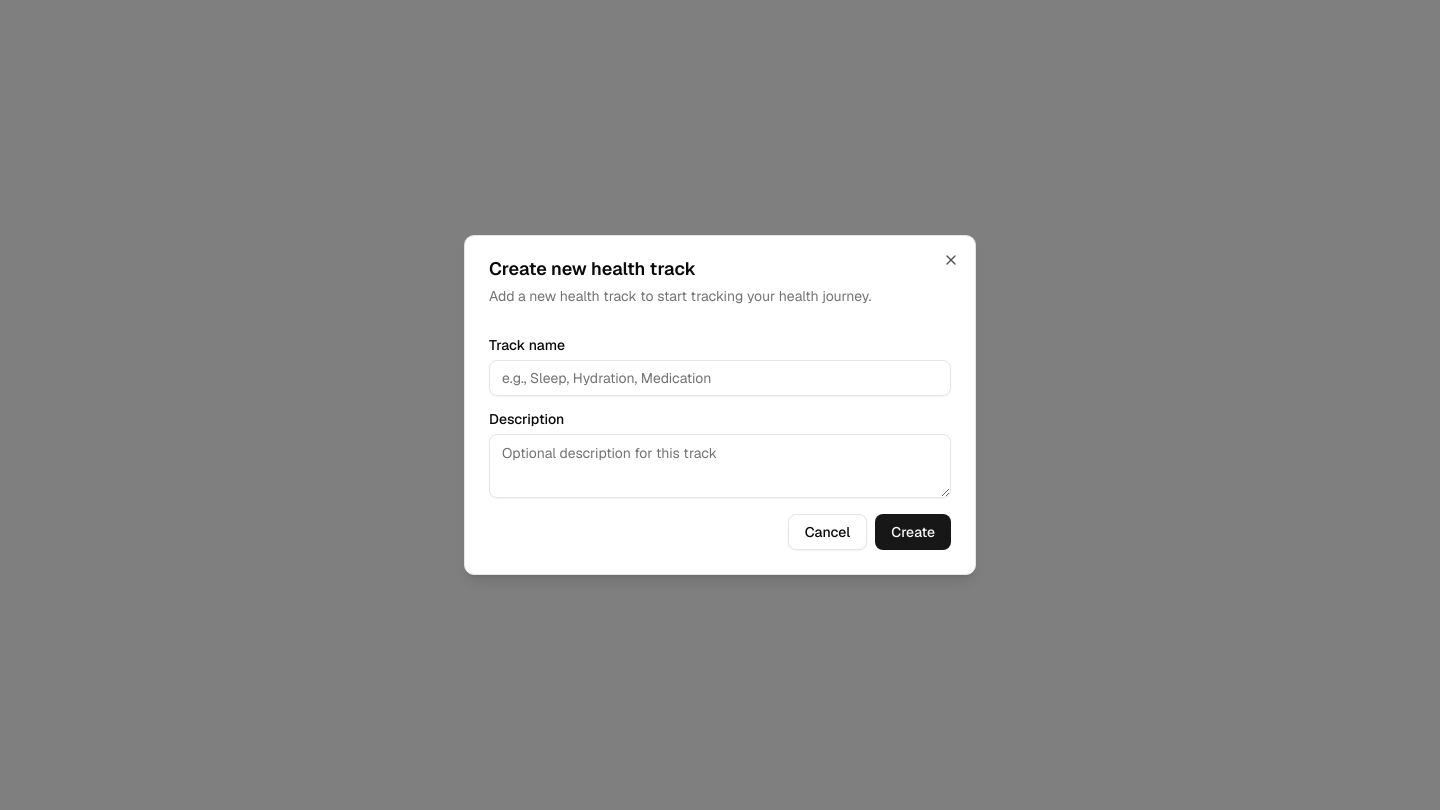
Scenario: TrackCreateDialog › displays error message on API failure
Type "Sleep Tracker" into the field labelled "Track name" at [720, 378], box [489, 360, 951, 396]
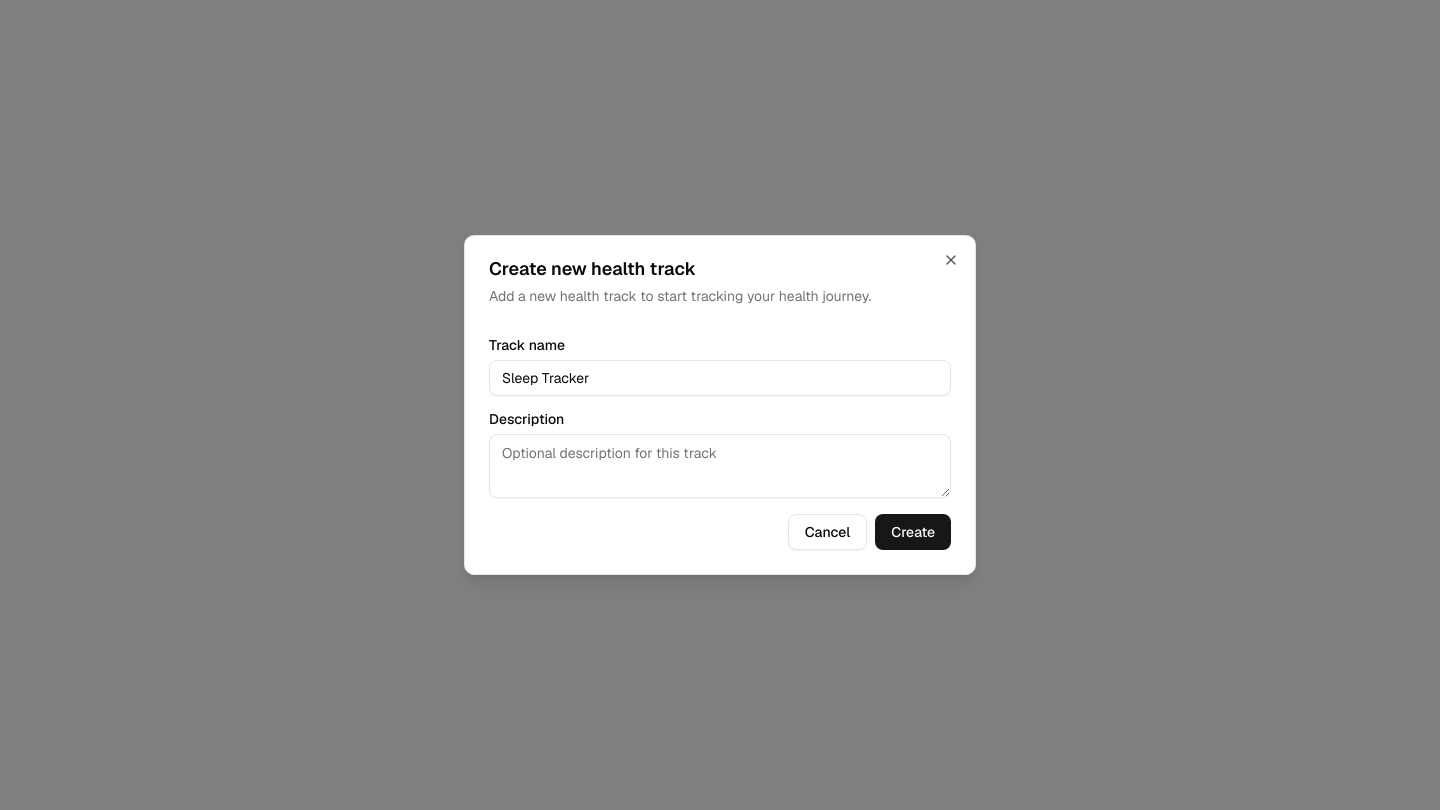
Click the button "Create" at [913, 532], box [875, 514, 951, 550]
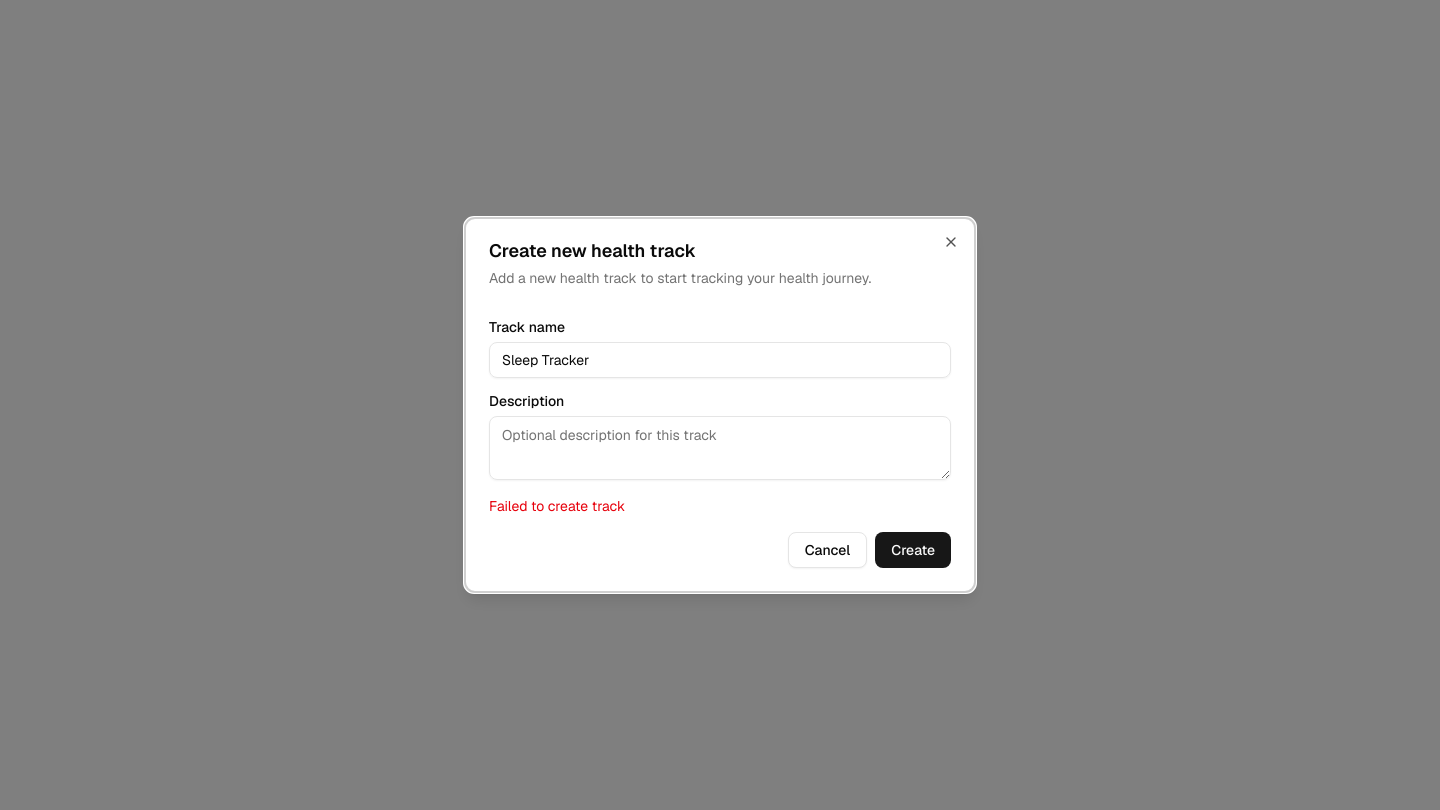
Expected: the text "Failed to create track" is shown, [489, 497, 625, 515]
